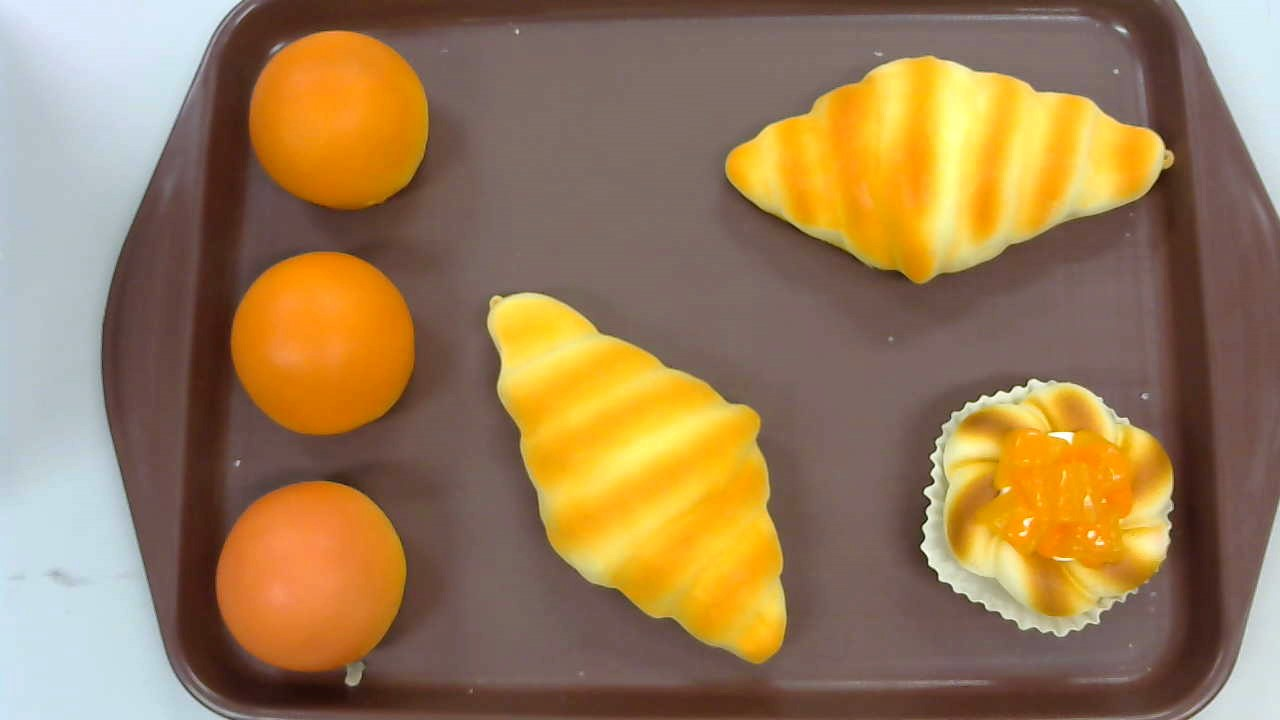bun: (215, 481, 407, 670), (230, 251, 416, 437), (247, 29, 429, 209)
croissant: (487, 292, 788, 665), (724, 53, 1175, 284)
mango tart: (920, 379, 1175, 637)
